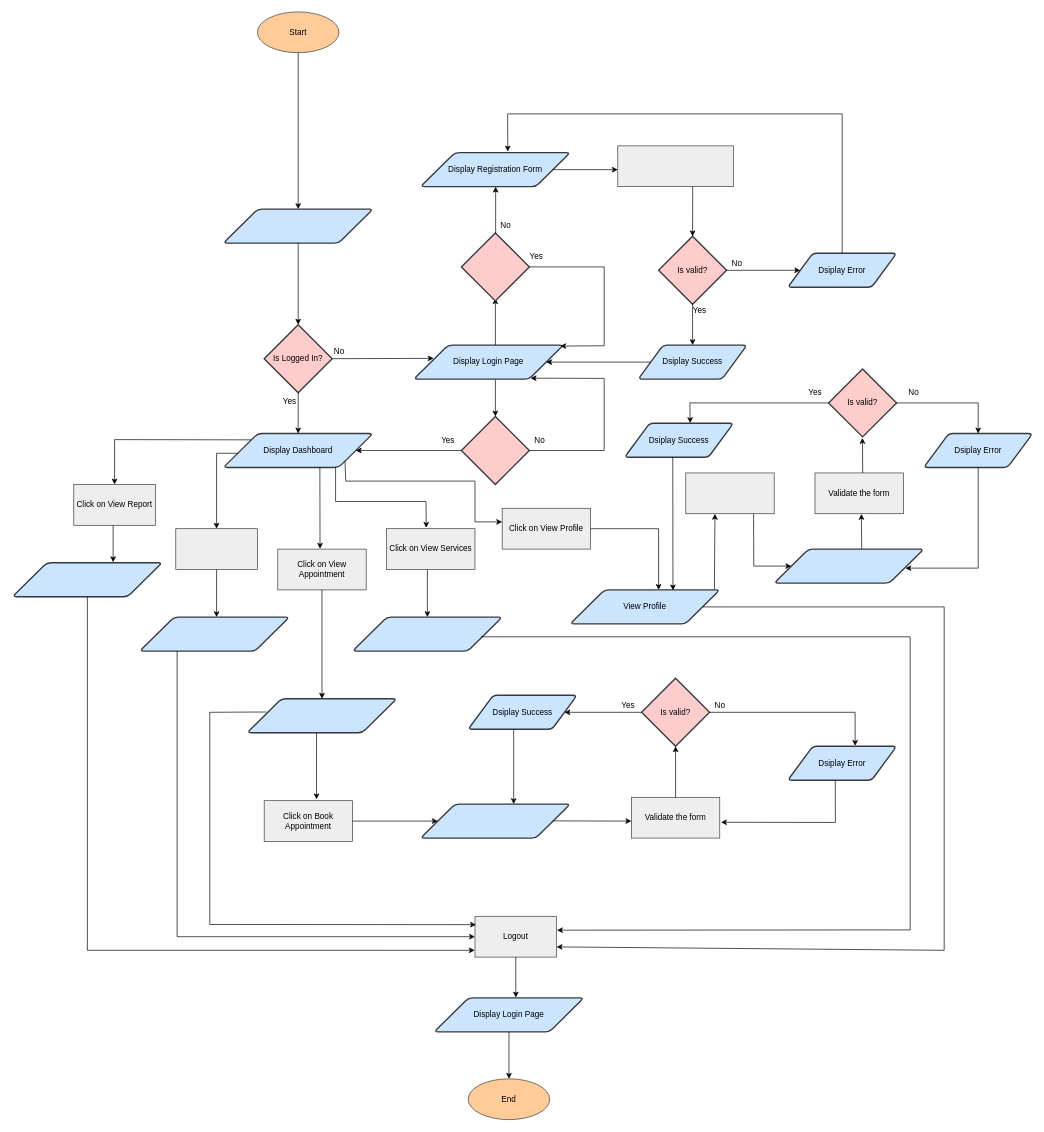
Some shapes in this 1044 by 1132 pixel diagram are drawn without their labels. The centre of each missing label's shape, as x and y in pixels:
Click on Edit Profile: the point at 729,493
Click on View Doctor: the point at 216,549
Display Home Page: the point at 297,225
Is registered?: the point at 495,266
Login Successful?: the point at 495,450
Validate the registration details: the point at 675,166
View Appointments: the point at 321,715
View Book Appointment Form: the point at 495,820
View Doctor: the point at 214,633
View Edit Profile Form: the point at 848,565
View Report: the point at 87,579
View Services: the point at 427,633
